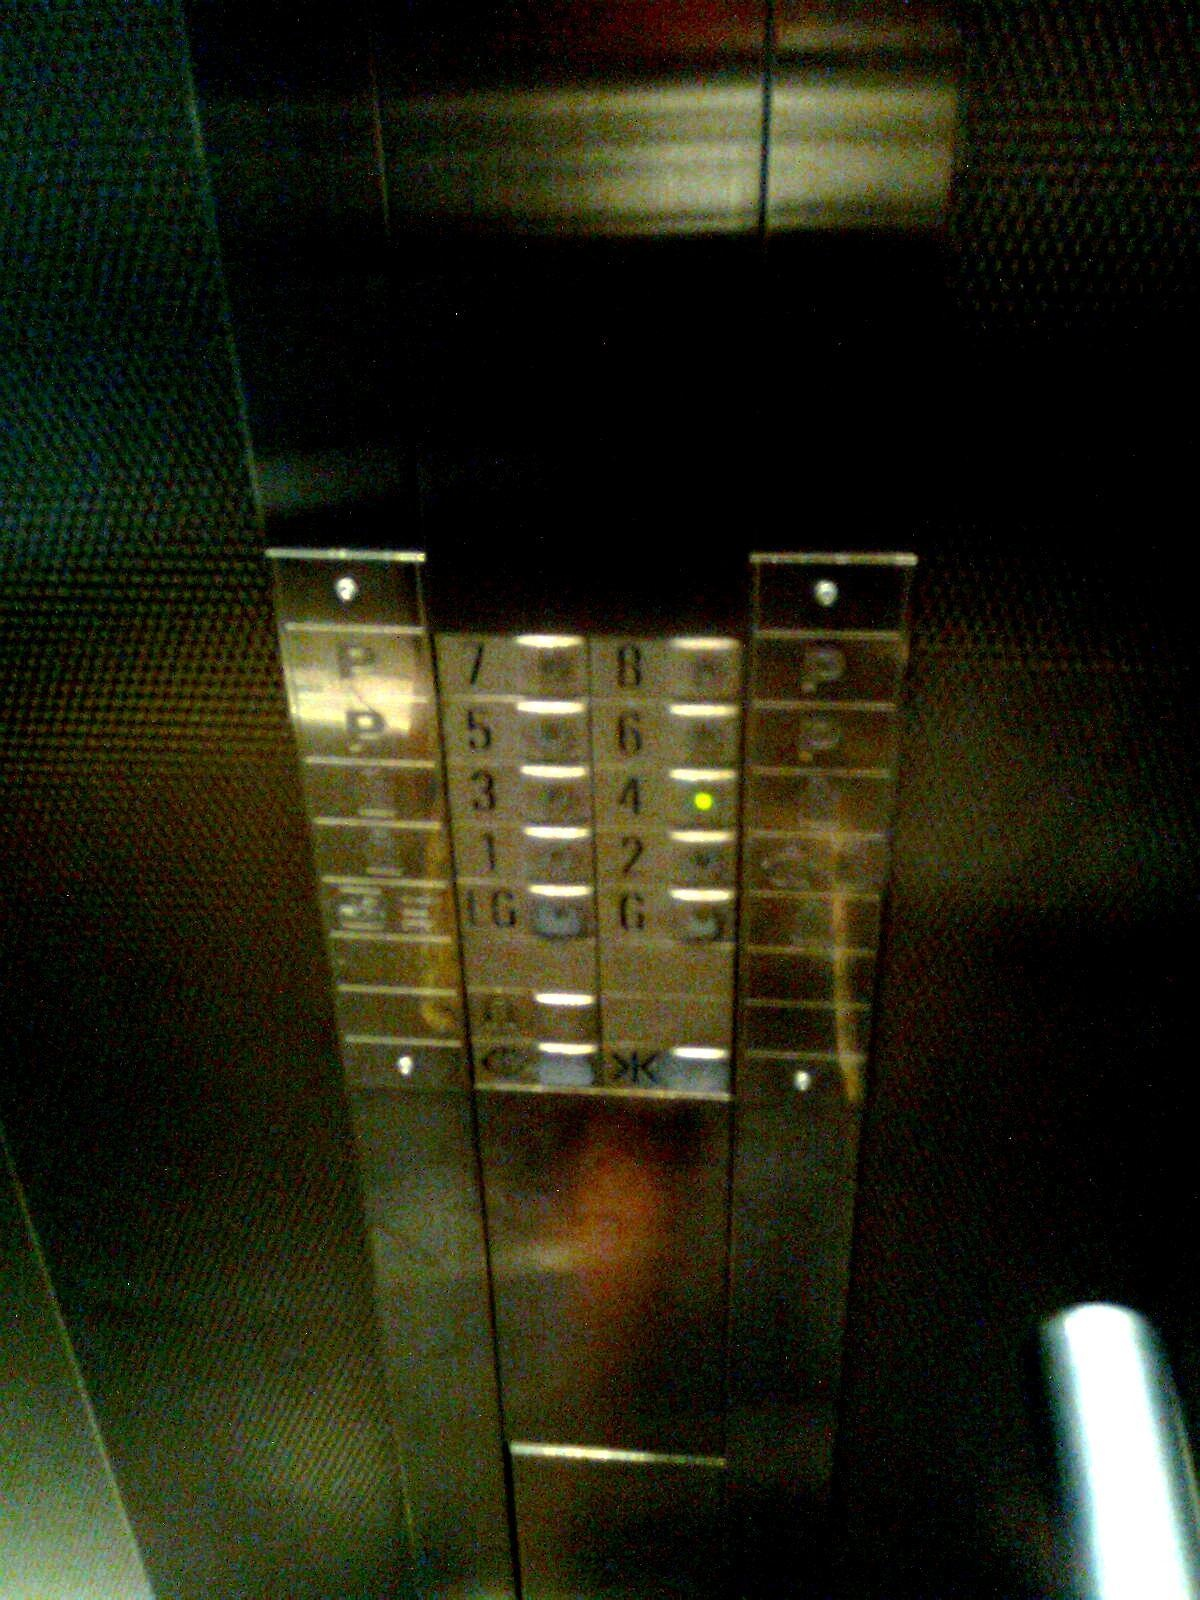1: (447, 816, 592, 889)
2: (591, 825, 745, 889)
3: (441, 757, 592, 828)
4: (587, 761, 745, 830)
5: (436, 692, 584, 763)
6: (582, 695, 742, 769)
7: (437, 632, 591, 699)
8: (585, 632, 745, 703)
G: (591, 884, 744, 947)
LG: (451, 876, 597, 952)
alarm: (463, 979, 601, 1047)
close: (597, 1033, 729, 1099)
open: (466, 1036, 596, 1101)
